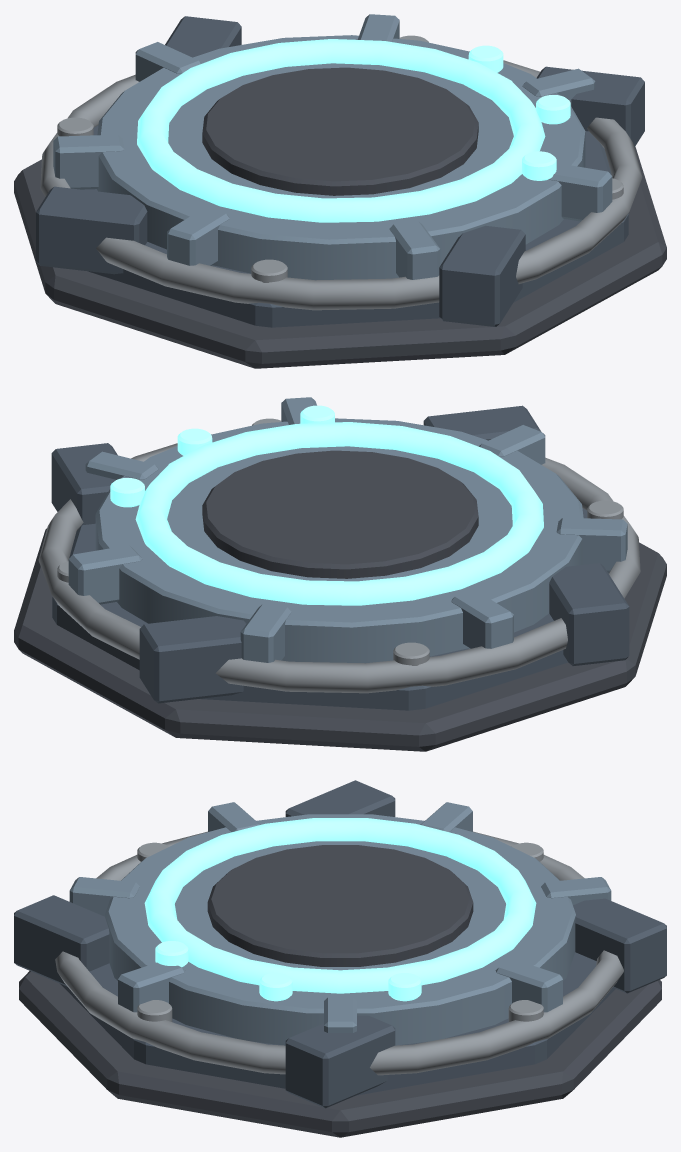
Rendered from gun_base_l3.glb.
The picture shows the model from 3 angles, top to bottom: view 1: azimuth 30°, elevation 25°; view 2: azimuth 150°, elevation 25°; view 3: azimuth 270°, elevation 25°; orthographic projection. The views are drawn at different scales.
Parts seen in each view (by area): view 1: Cylinder.002, Cylinder, Cylinder.003, Torus.001, Torus, Cylinder.001, Cube.009, Cube.010, Cube.007, Cube.003, Cube.006, Cube.004 (+10 smaller); view 2: Cylinder.002, Cylinder, Cylinder.003, Torus.001, Torus, Cylinder.001, Cube.008, Cube.009, Cube.007, Cube.001, Cube.003, Cube.004 (+10 smaller); view 3: Cylinder.002, Cylinder, Cylinder.003, Torus.001, Torus, Cylinder.001, Cube.007, Cube.010, Cube.008, Cube.009, Cube.001, Cube.006 (+10 smaller).
Part boxes in pixels (left/top/right/bottom): Cylinder.002: left=97, top=35, right=585, bottom=279; Cylinder: left=14, top=146, right=666, bottom=368; Cylinder.003: left=202, top=67, right=478, bottom=195; Torus.001: left=137, top=39, right=545, bottom=222; Torus: left=40, top=60, right=642, bottom=310; Cylinder.001: left=83, top=125, right=628, bottom=327; Cube.009: left=36, top=186, right=147, bottom=274; Cube.010: left=439, top=225, right=525, bottom=326; Cube.007: left=536, top=66, right=644, bottom=147; Cube.003: left=53, top=134, right=124, bottom=189; Cube.006: left=548, top=163, right=612, bottom=221; Cube.004: left=167, top=207, right=229, bottom=265; Cylinder.002: left=95, top=418, right=583, bottom=662; Cylinder: left=14, top=528, right=666, bottom=751; Cylinder.003: left=202, top=450, right=478, bottom=578; Torus.001: left=135, top=422, right=543, bottom=605; Torus: left=38, top=443, right=640, bottom=693; Cylinder.001: left=52, top=508, right=608, bottom=710; Cube.008: left=139, top=616, right=246, bottom=703; Cube.009: left=549, top=563, right=629, bottom=665; Cube.007: left=51, top=443, right=117, bottom=525; Cube.001: left=68, top=545, right=142, bottom=604; Cube.003: left=451, top=590, right=513, bottom=648; Cube.004: left=556, top=517, right=627, bottom=572; Cylinder.002: left=105, top=814, right=575, bottom=1045; Cylinder: left=19, top=971, right=661, bottom=1137; Cylinder.003: left=207, top=845, right=473, bottom=966; Torus.001: left=144, top=818, right=536, bottom=993; Torus: left=55, top=831, right=623, bottom=1075; Cylinder.001: left=60, top=952, right=615, bottom=1095; Cube.007: left=285, top=1015, right=395, bottom=1108; Cube.010: left=14, top=895, right=109, bottom=986; Cube.008: left=573, top=898, right=666, bottom=993; Cube.009: left=285, top=780, right=395, bottom=816; Cube.001: left=495, top=959, right=562, bottom=1012; Cube.006: left=118, top=962, right=185, bottom=1012.
Bounding box in the file's own units: 2.16 × 0.4 × 2.16.
